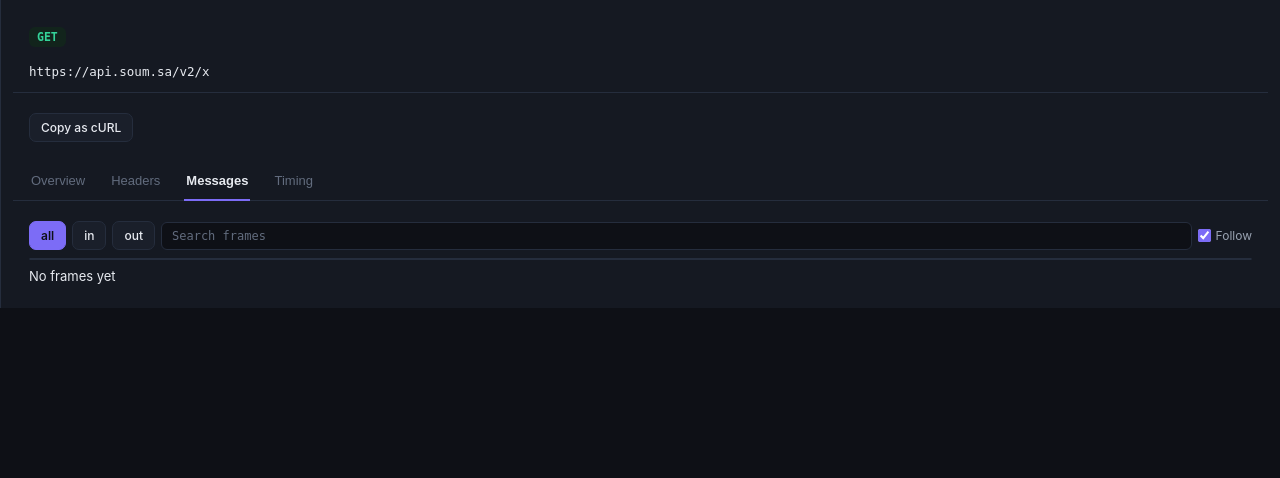
Test: DetailPane live ws meta › updates the Overview Frames line from a live upsertFlow without re-selecting
Click the button "Overview" at (58, 182), box [29,162,87,201]
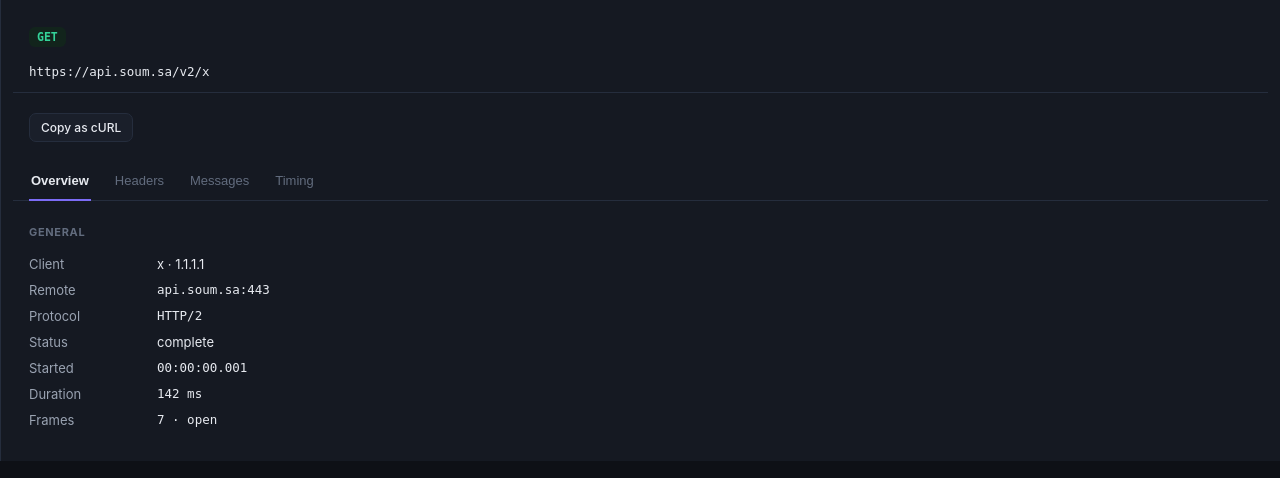
Expected: the text "7 · open" is shown, [157,412,217,427]
